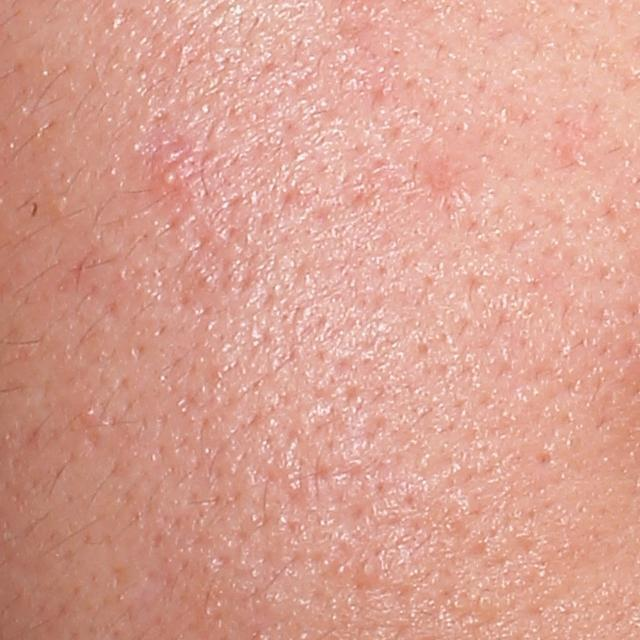comedo: (356, 553, 384, 586)
pustule: (160, 161, 183, 193)
